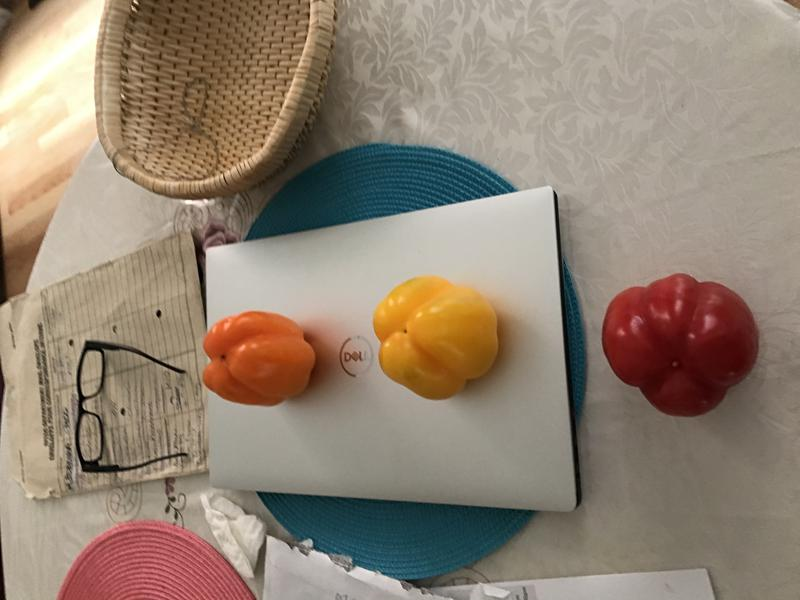orange_pepper: (198, 306, 329, 416)
red_pepper: (589, 261, 770, 427)
yellow_pepper: (371, 270, 510, 406)
